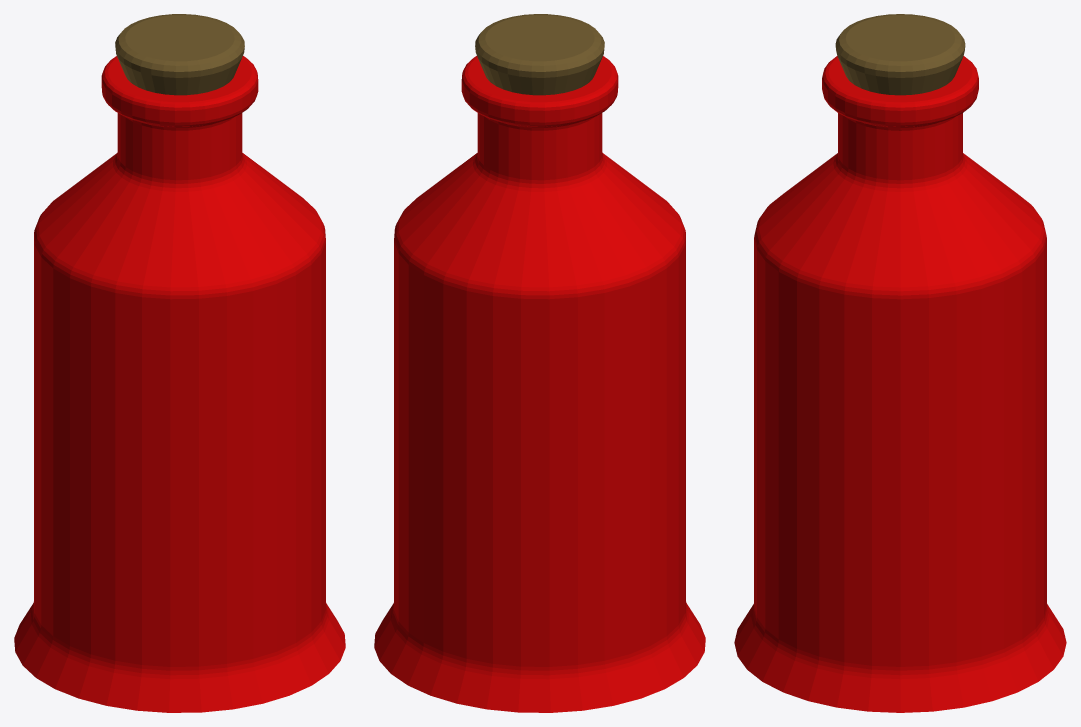
Rendered from SM_Prop_pocion (1).fbx.
3 renders of one model, left to right at view 1: azimuth 30°, elevation 25°; view 2: azimuth 150°, elevation 25°; view 3: azimuth 270°, elevation 25°, orthographic.
Parts seen in each view (by area): view 1: corcho3; view 2: corcho3; view 3: corcho3.
Boxes of the visible parts, x1,y1,x2,y2 form: corcho3: (14,14,345,712); corcho3: (374,14,705,712); corcho3: (734,14,1066,712).
Size of the model in its own units: 21.61 by 43.38 by 21.61.
1 material, 1 textured.
